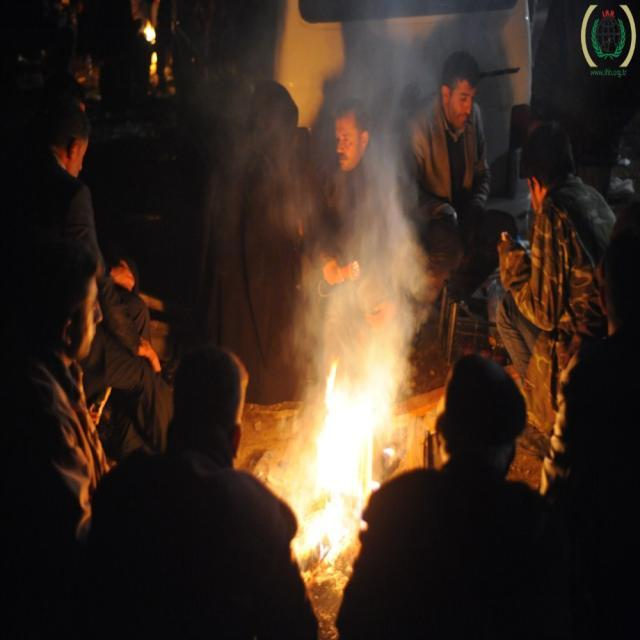Fire: (310, 370, 372, 538)
